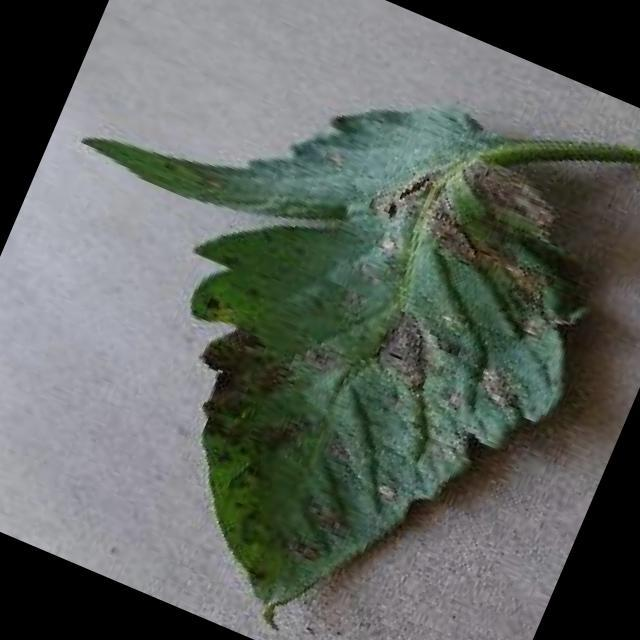Tomato Early blight leaf: (68, 41, 640, 640)
